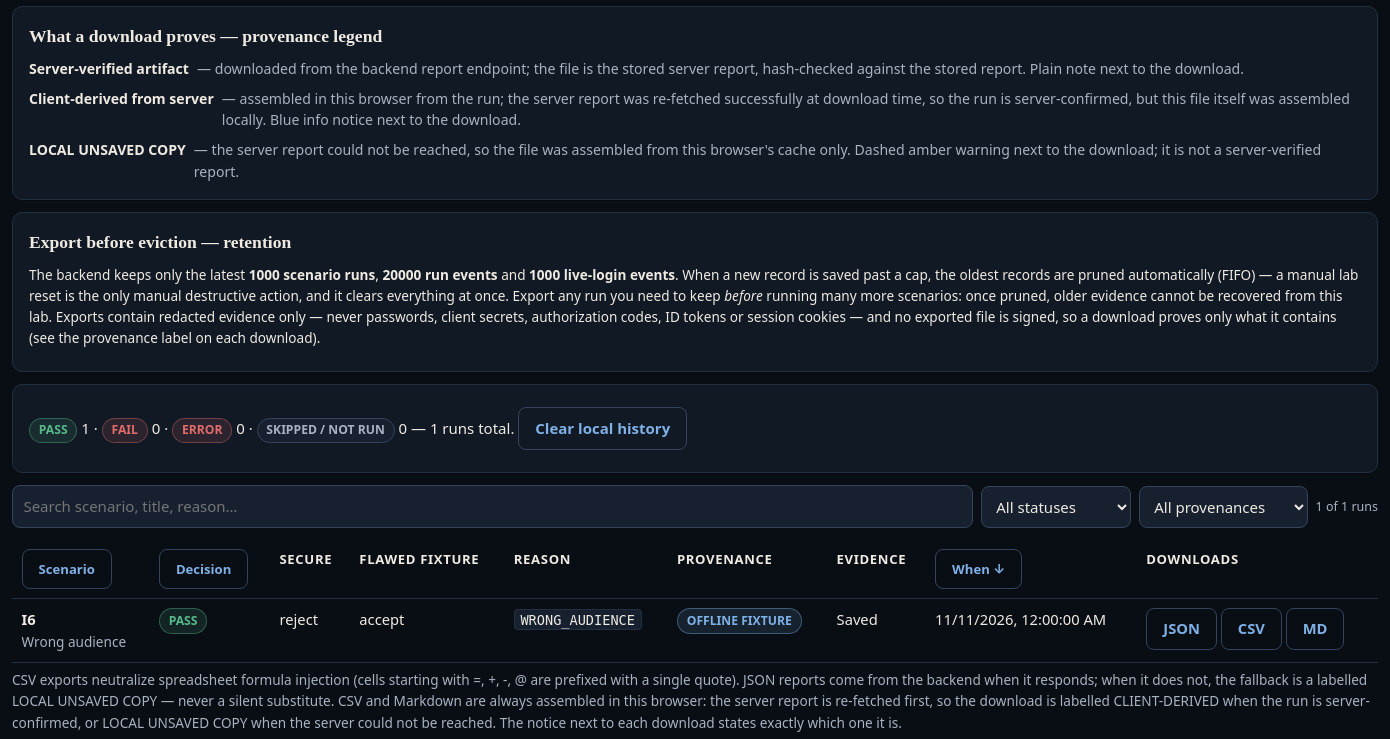
Scenario: Findings download provenance notices (IF-V4-12) › CSV download shows the client-derived notice when the server report re-fetch succeeds
The image size is (1390, 739).
(page scrolled)
What coordinates should you click on to do the following:
click the button "CSV"
I would click on:
 (1251, 629)
Its box is 1221,608 -> 1282,650.
(page scrolled)
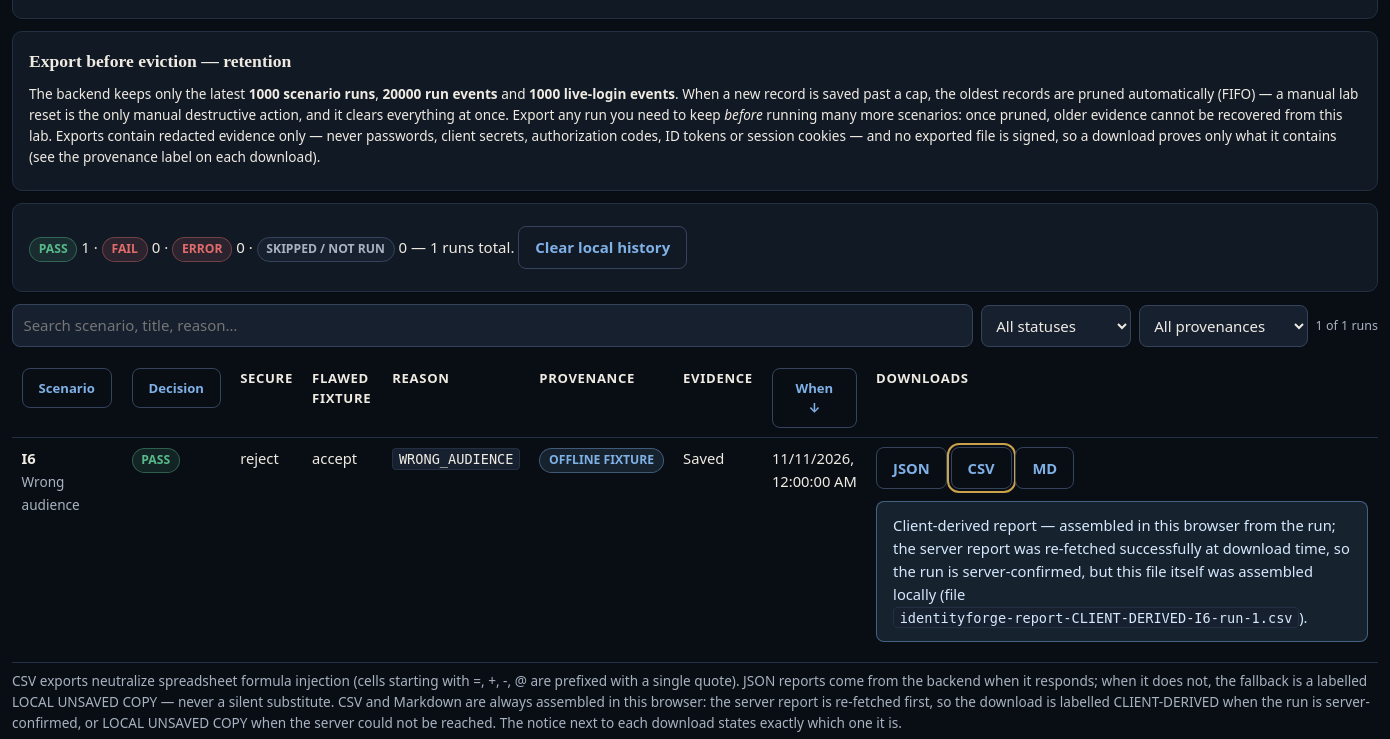
Now the text "Client-derived report" is shown, box 893,515 -> 1350,604
Now the text "identityforge-report-CLIENT-DERIVED-I6-run-1.csv" is shown, box 893,607 -> 1299,628
